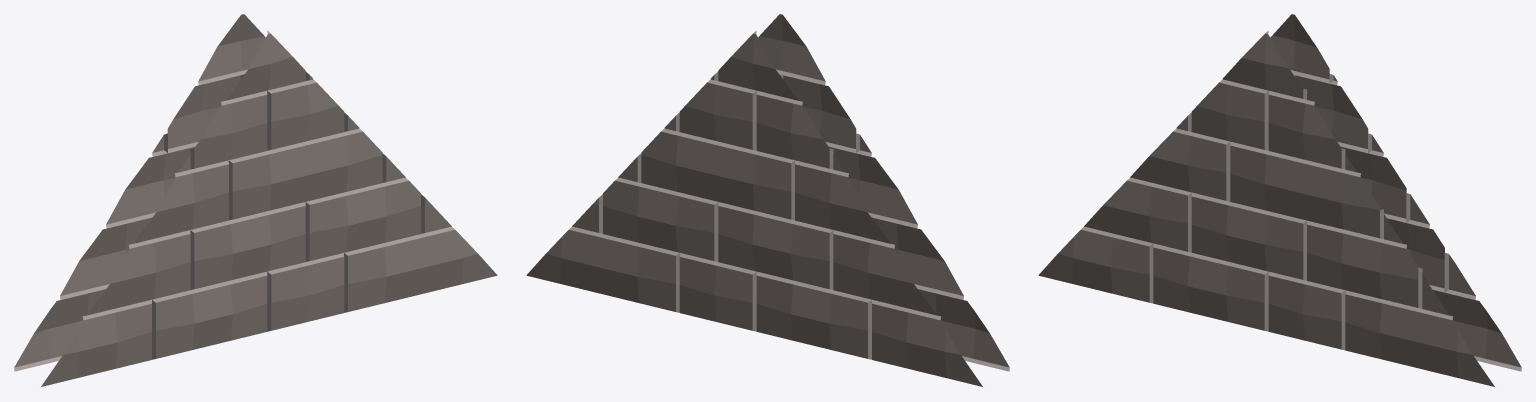
Rendered from WallAngle_Top_2.fbx.
The picture shows the model from 3 angles, left to right: view 1: azimuth 30°, elevation 25°; view 2: azimuth 150°, elevation 25°; view 3: azimuth 330°, elevation 25°; orthographic projection.
Visible parts, largest first — view 1: WallAngle_Top_2; view 2: WallAngle_Top_2; view 3: WallAngle_Top_2.
Boxes of the visible parts, x1,y1,x2,y2 form: WallAngle_Top_2: [14, 14, 497, 387]; WallAngle_Top_2: [526, 14, 1009, 387]; WallAngle_Top_2: [1038, 14, 1521, 387].
Bounding box in the file's own units: 2.4 × 0.28 × 1.5.
